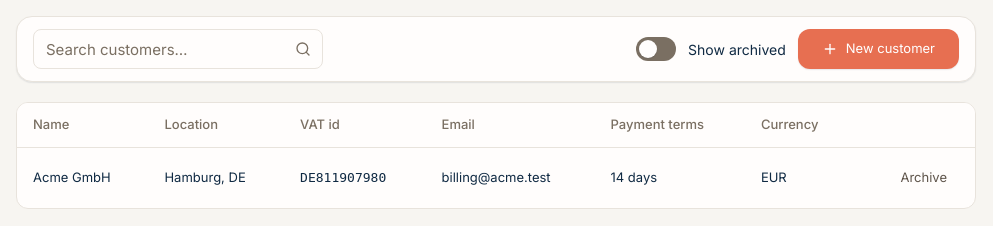
the customer list › shows what the API answered, archived rows included on request
Expected: the button "Acme GmbH" is shown, [33,168,111,187]
Expected: the text "DE811907980" is shown, [284,148,426,208]
Click the switch labelled "Show archived": [737, 49] box [688,38,786,60]
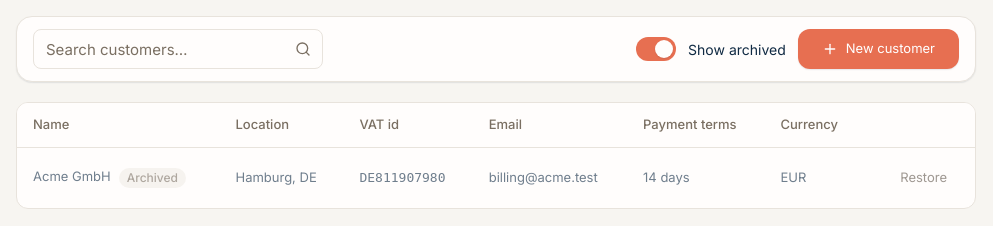
Result: the text "Archived" is shown at [119,168,186,188]
